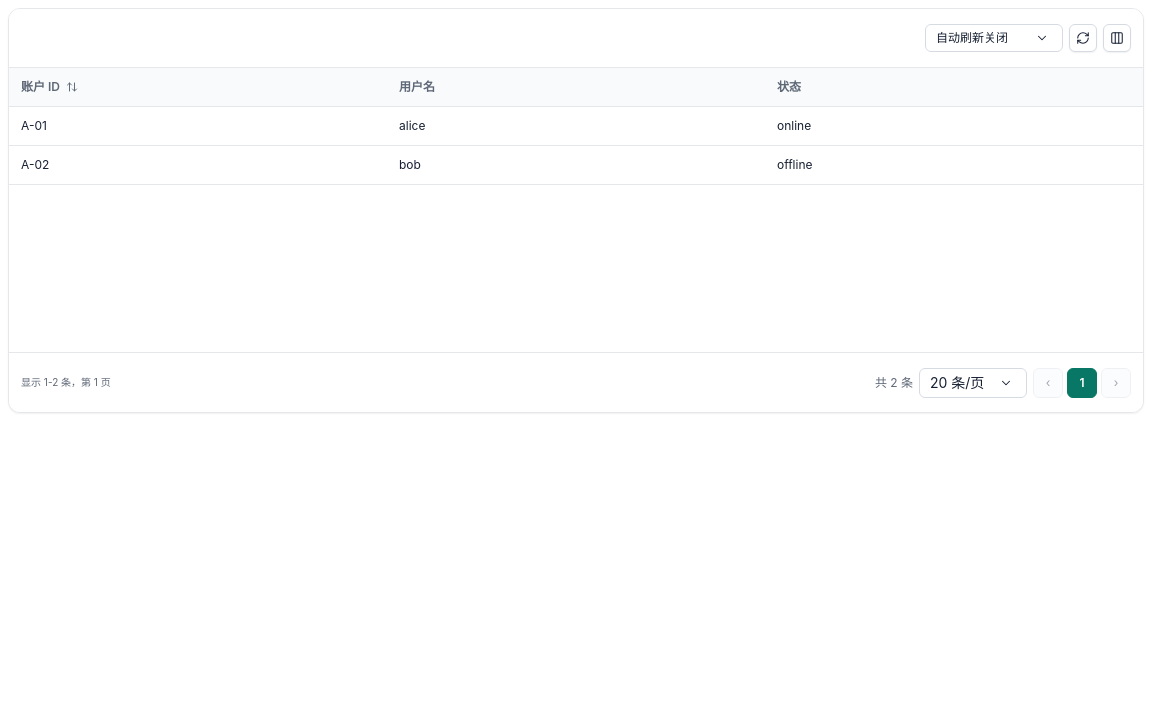
Test: MmProTable › supports column visibility settings while preserving required columns
Click the button named "显示字段" at coordinates (1117, 38), box [1103,24,1131,52]
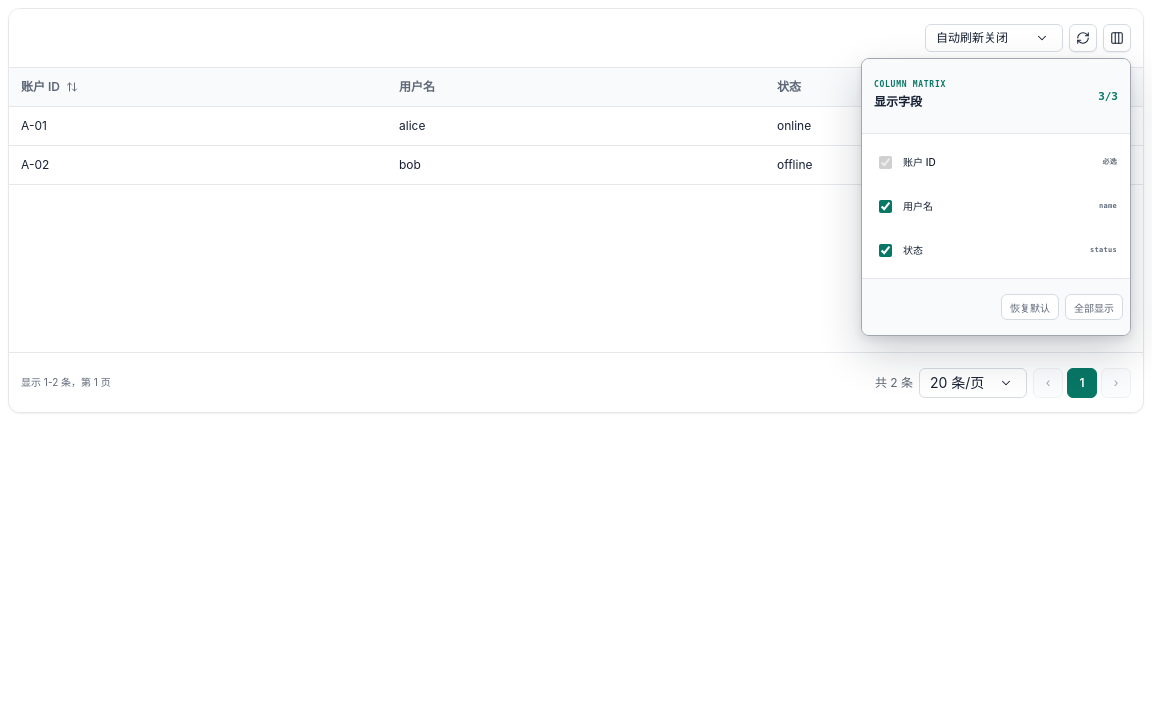
Expected: the checkbox labelled "账户 ID 必选" is disabled, [879,156,892,168]
Expected: the checkbox labelled "用户名 name" is shown
Click the checkbox labelled "用户名 name" at coordinates (886, 206), box [879,200,892,212]
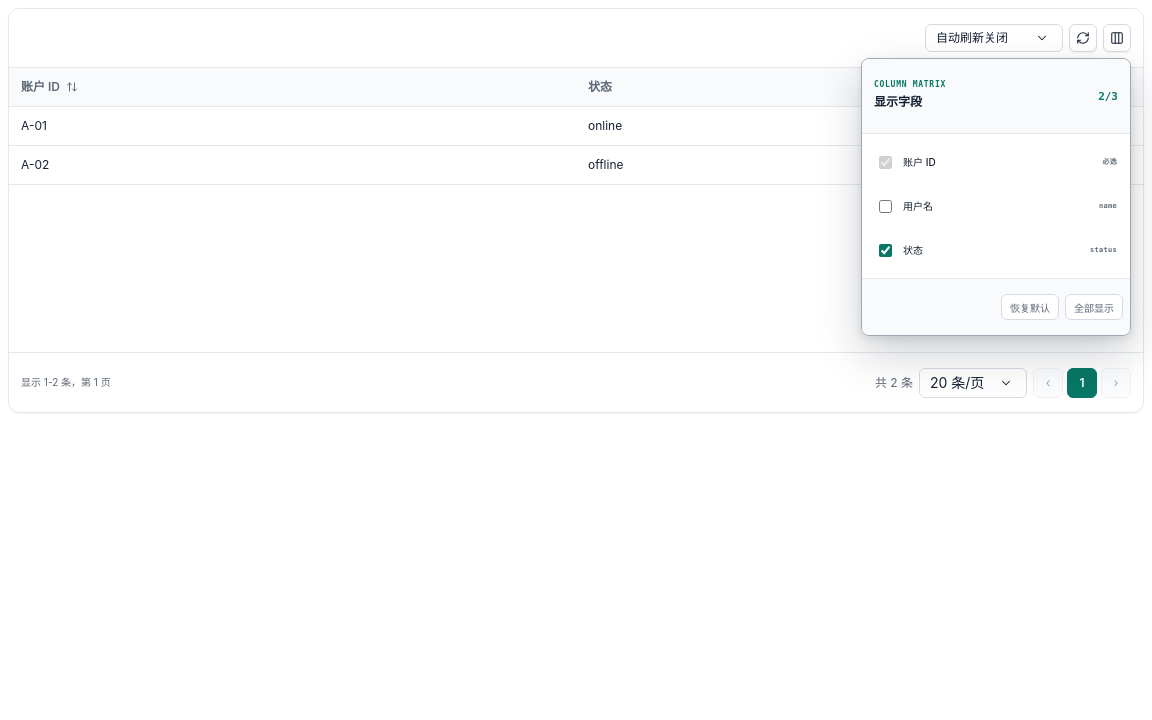
Expected: the number of column headings is 2, [9,68,576,107]; [576,68,1143,107]
